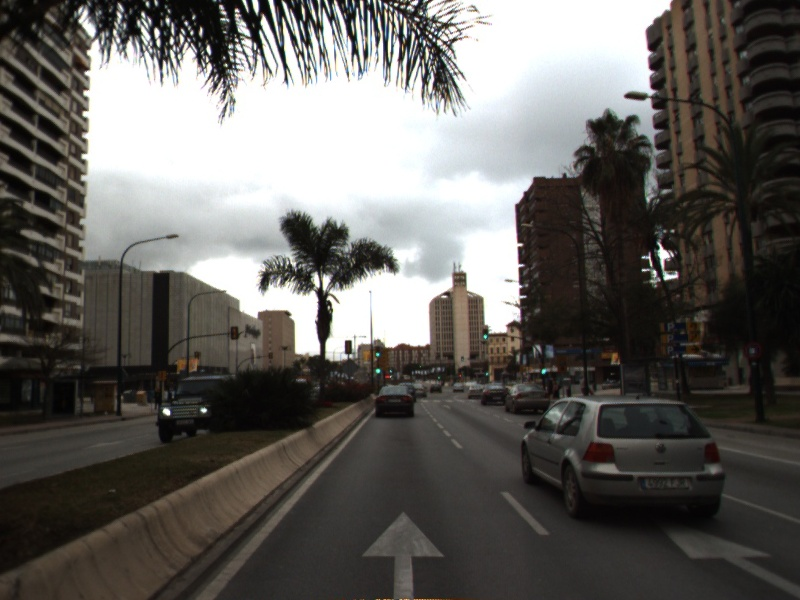STRAIGHT: (659, 518, 800, 599), (358, 506, 450, 600)
